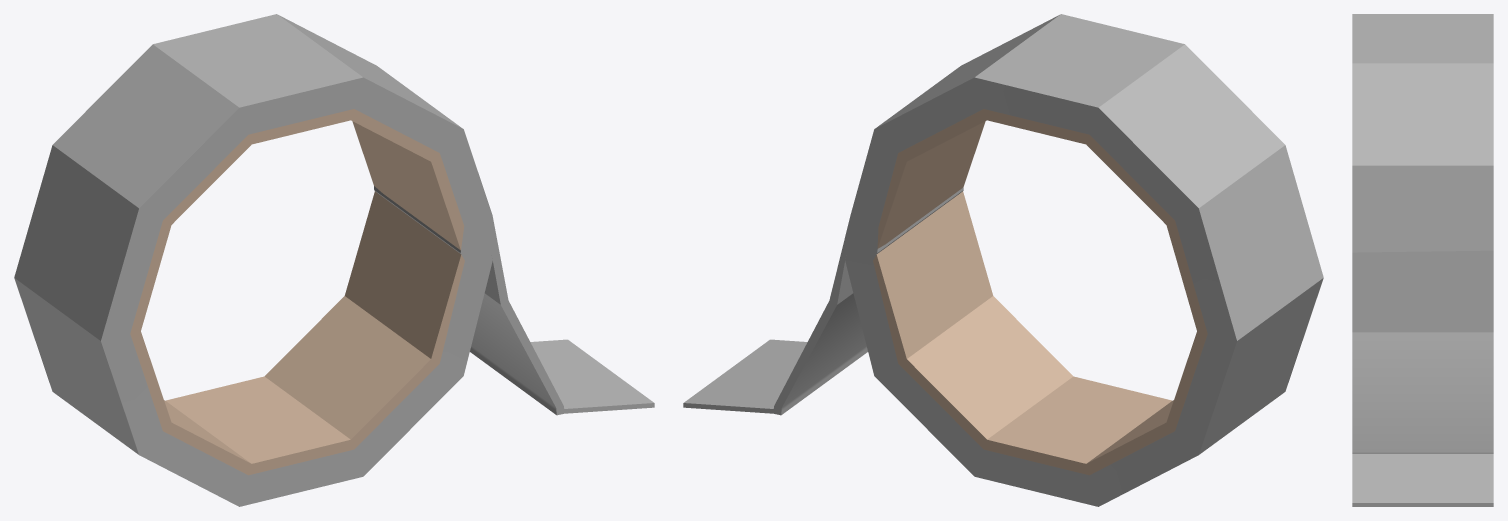
File: DuckTape_01.fbx
3 renders of one model, left to right at view 1: azimuth 30°, elevation 25°; view 2: azimuth 150°, elevation 25°; view 3: azimuth 270°, elevation 25°, orthographic. The views are drawn at different scales.
Parts seen in each view (by area): view 1: polySurface6; view 2: polySurface6; view 3: polySurface6.
Boxes of the visible parts, bbox=[...] form: polySurface6: bbox=[14, 14, 654, 506]; polySurface6: bbox=[683, 14, 1323, 506]; polySurface6: bbox=[1352, 14, 1493, 506].
Bounding box in the file's own units: 25.9 × 17.93 × 7.02.
